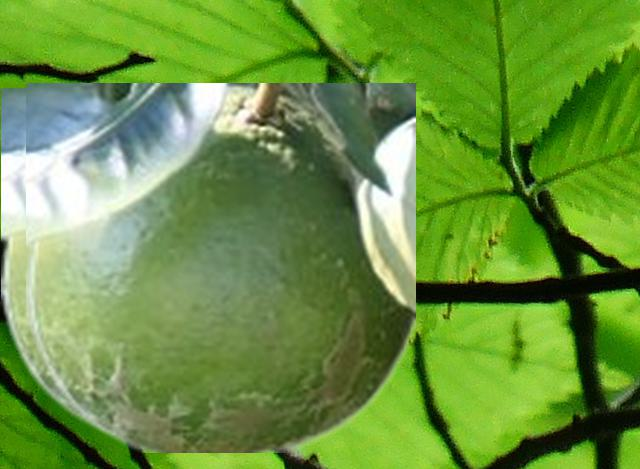dalandan: (26, 83, 414, 451), (1, 88, 97, 432)
